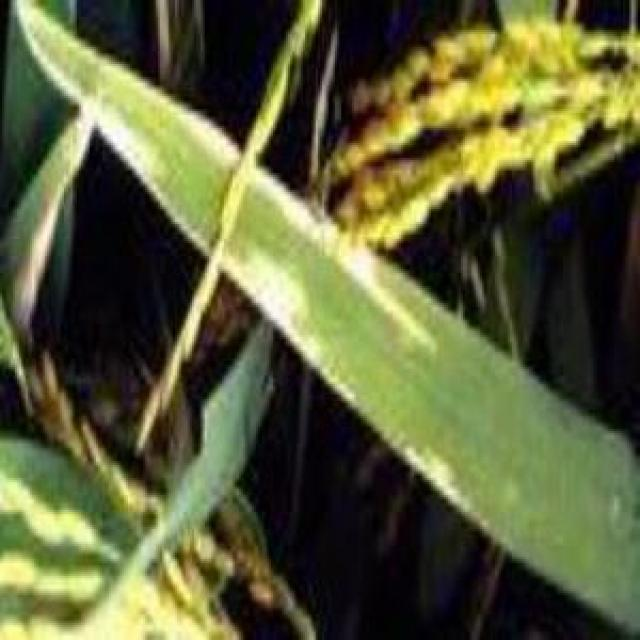leaf blight: (26, 2, 376, 386)
